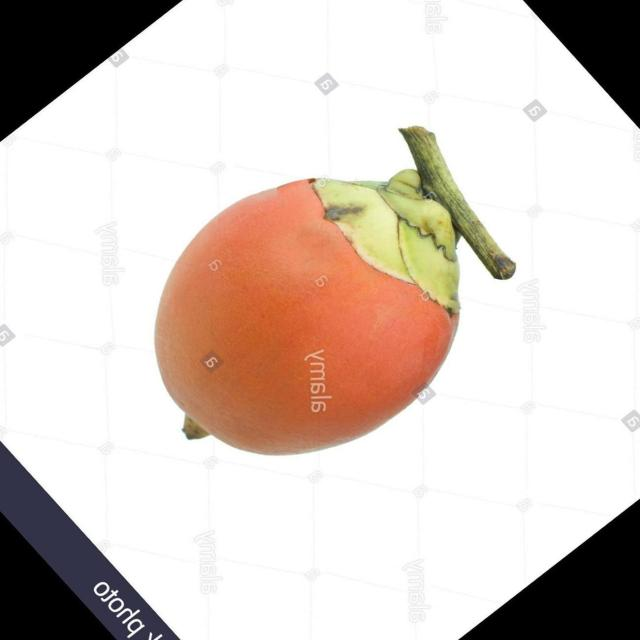good: (153, 126, 517, 459)
